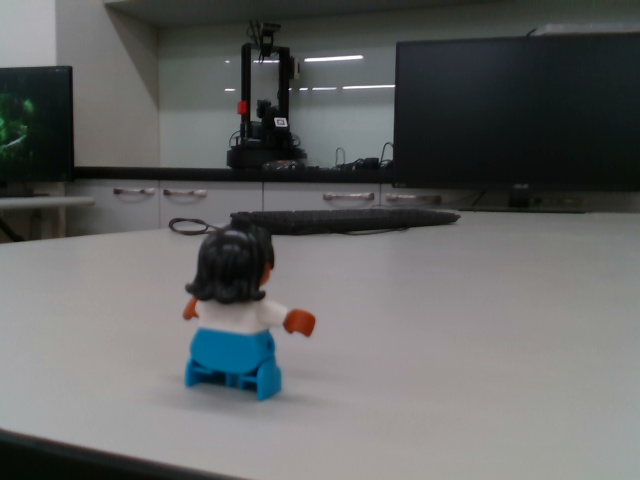people: (178, 225, 321, 402)
